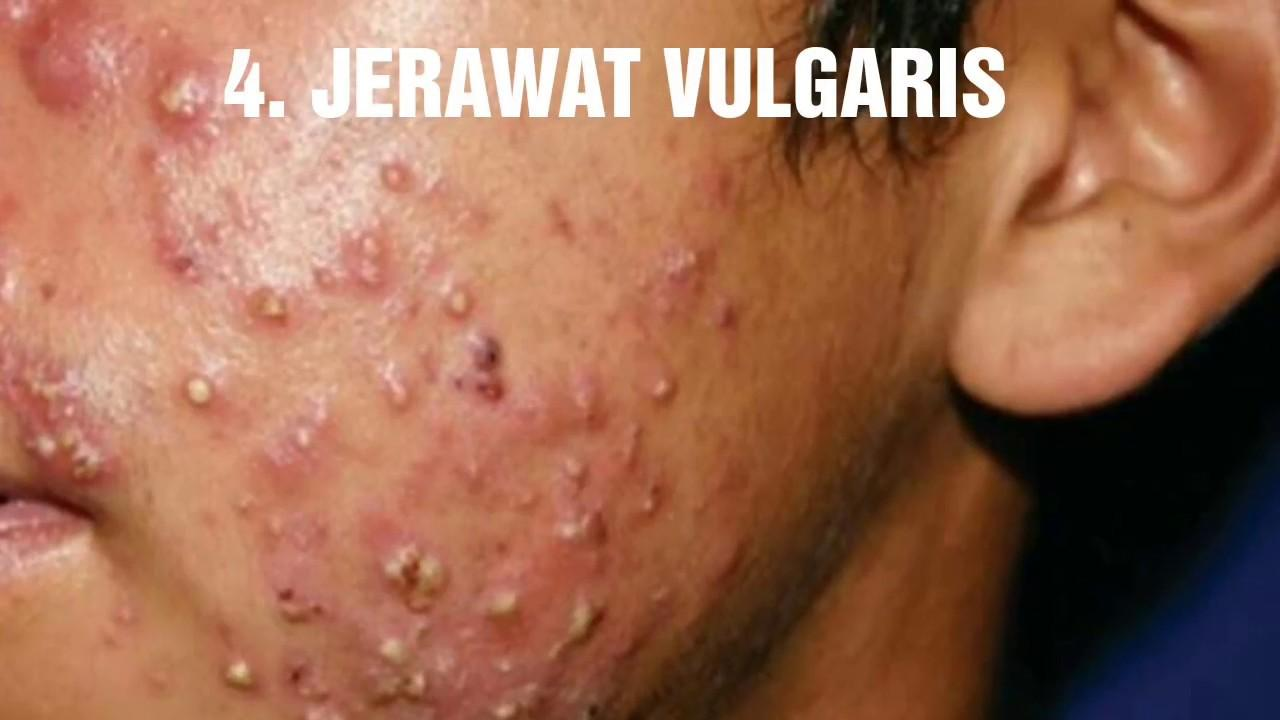Acne: (17, 139, 761, 720), (4, 5, 220, 129)
